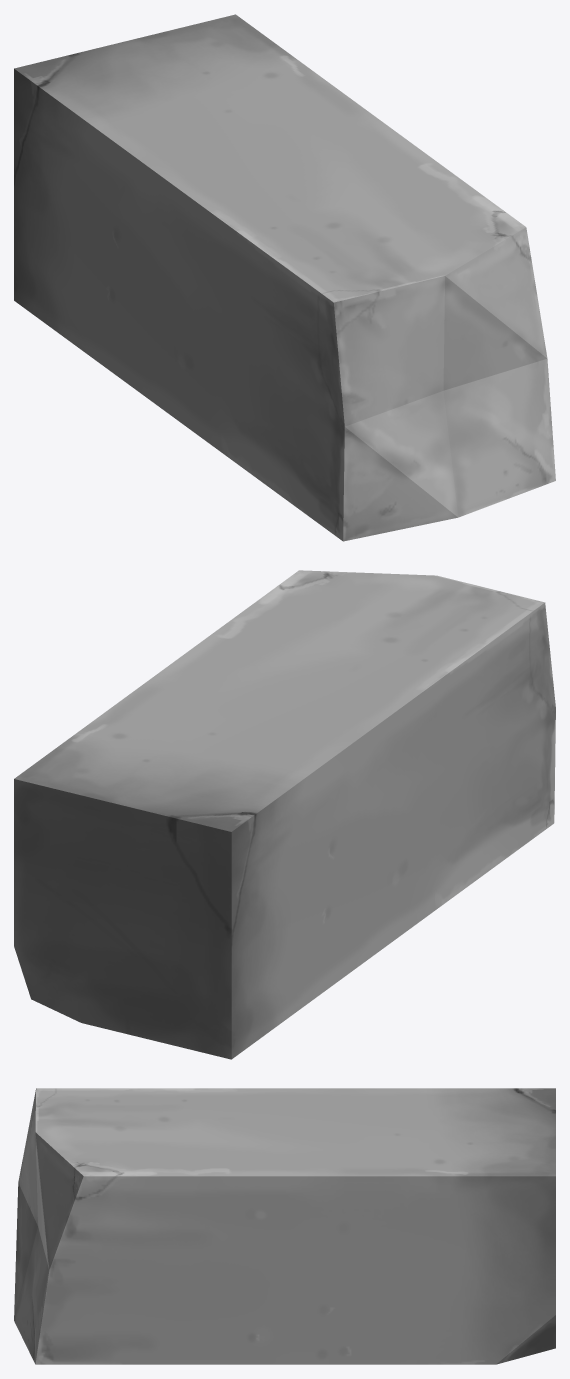
The model's file is brokenConcretePillar.glb.
3 renders of one model, top to bottom at view 1: azimuth 30°, elevation 25°; view 2: azimuth 150°, elevation 25°; view 3: azimuth 270°, elevation 25°, orthographic. The views are drawn at different scales.
Visible parts, largest first — view 1: Cube; view 2: Cube; view 3: Cube.
Part boxes in pixels (x1=…): Cube: x1=14, y1=14, x2=555, y2=541; Cube: x1=14, y1=570, x2=555, y2=1059; Cube: x1=14, y1=1088, x2=555, y2=1364.
Size of the model in its own units: 51.59 by 51.59 by 134.
Materials: 1 (1 with a texture image).
